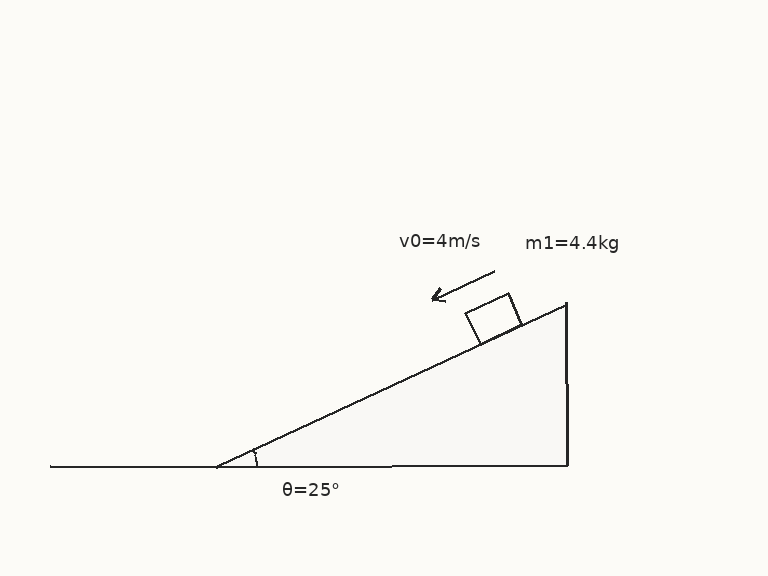block: (463, 291, 524, 346)
ramp: (215, 301, 569, 468)
